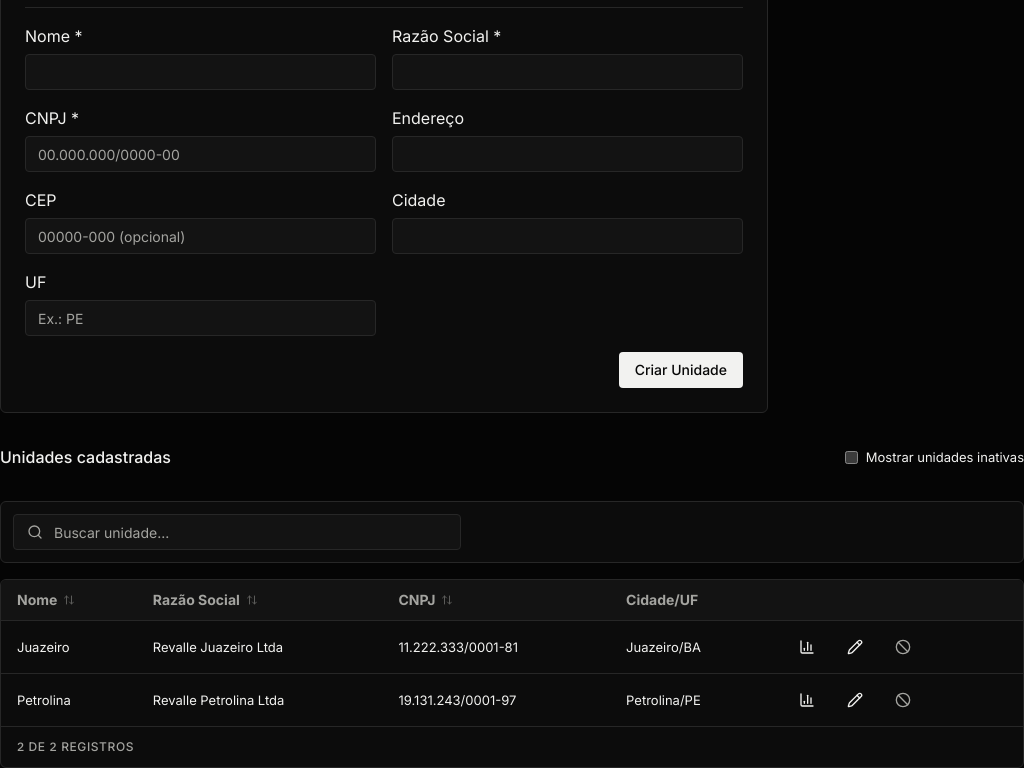
Test case: UnidadesPage — inativação › exibe a mensagem do backend (não uma genérica) ao tentar inativar unidade com itens ativos
The image size is (1024, 768).
(page scrolled)
Click the button named "Inativar unidade Juazeiro".
click(902, 647)  # box [882,631,922,663]
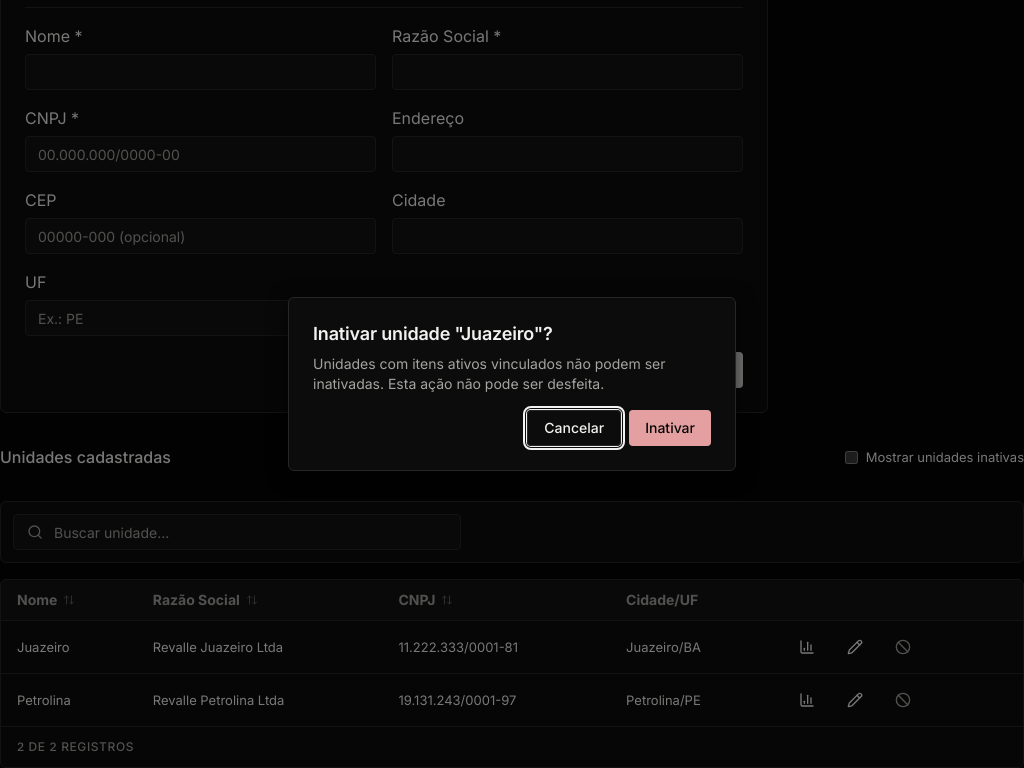
Click the button "Inativar".
click(670, 428)  # box [629,410,711,446]
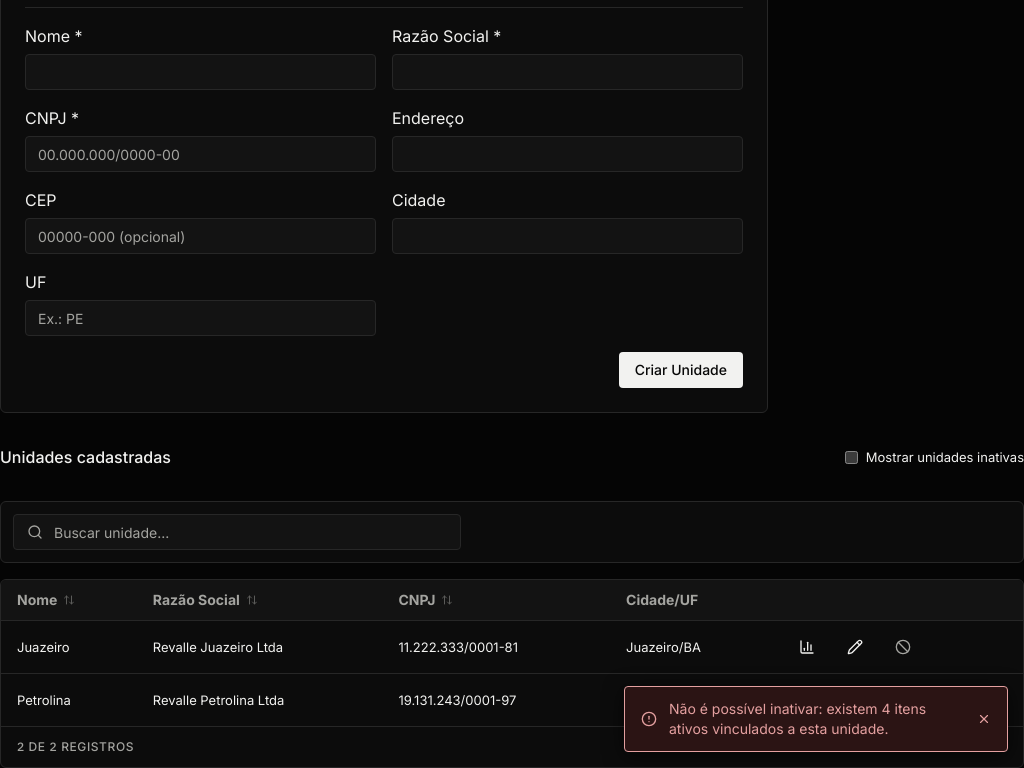
expect the text "Não é possível inativar: existem 4 itens ativos vinculados a esta unidade." is shown: met, box [669,699,965,739]
